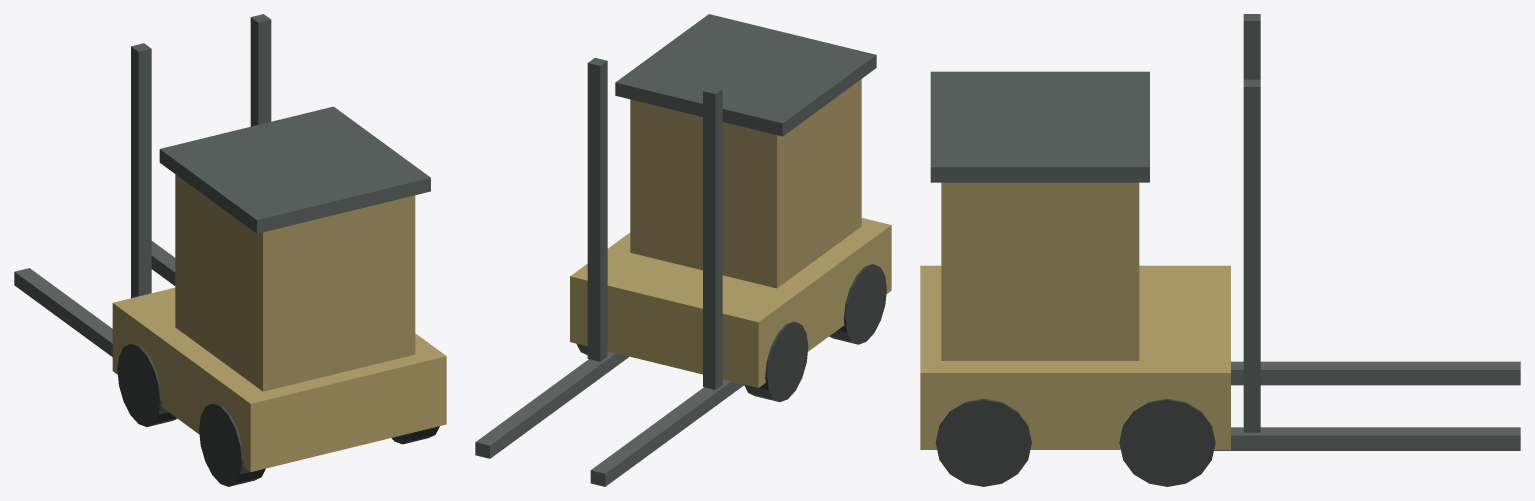
The model's file is forklift.glb.
3 views of the same model, side by side, from view 1: azimuth 30°, elevation 25°; view 2: azimuth 150°, elevation 25°; view 3: azimuth 270°, elevation 25° (orthographic). The views are drawn at different scales.
Parts seen in each view (by area): view 1: cab_1, body_0, roof_6, mast_2, wheel_8, wheel_7, fork_4, mast_3, fork_5; view 2: cab_1, body_0, roof_6, mast_3, mast_2, fork_4, fork_5, wheel_7, wheel_8; view 3: cab_1, body_0, roof_6, fork_5, fork_4, wheel_9, wheel_10, mast_3, mast_2.
Boxes of the visible parts, x1,y1,x2,y2 form: cab_1: [175, 174, 415, 391]; body_0: [112, 287, 446, 471]; roof_6: [159, 106, 430, 233]; mast_2: [131, 43, 151, 298]; wheel_8: [199, 403, 265, 486]; wheel_7: [117, 343, 177, 426]; fork_4: [14, 268, 112, 356]; mast_3: [250, 14, 271, 126]; fork_5: [151, 241, 175, 285]; cab_1: [630, 79, 861, 288]; body_0: [570, 218, 891, 387]; roof_6: [615, 14, 876, 136]; mast_3: [587, 57, 607, 361]; mast_2: [703, 86, 722, 389]; fork_4: [590, 379, 743, 486]; fork_5: [475, 351, 628, 458]; wheel_7: [744, 321, 808, 402]; wheel_8: [829, 264, 886, 344]; cab_1: [941, 182, 1139, 360]; body_0: [920, 265, 1230, 449]; roof_6: [930, 71, 1149, 182]; fork_5: [1214, 427, 1520, 450]; fork_4: [1231, 361, 1520, 385]; wheel_9: [1119, 398, 1215, 486]; wheel_10: [935, 398, 1031, 486]; mast_3: [1243, 79, 1260, 432]; mast_2: [1243, 14, 1260, 79].
Size of the model in its own units: 1.84 by 2.98 by 4.25.
